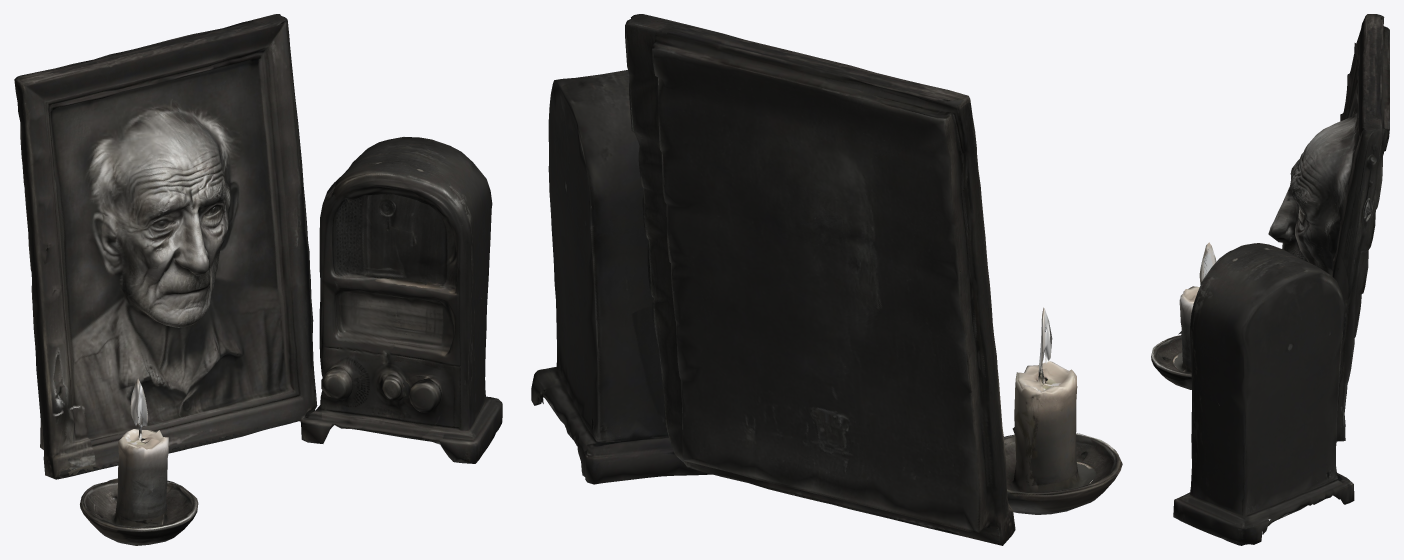
3 views of the same model, side by side, from view 1: azimuth 30°, elevation 25°; view 2: azimuth 150°, elevation 25°; view 3: azimuth 270°, elevation 25° (orthographic). The views are drawn at different scales.
Size of the model in its own units: 1.99 by 1.71 by 1.05.
1 material, 1 textured.
